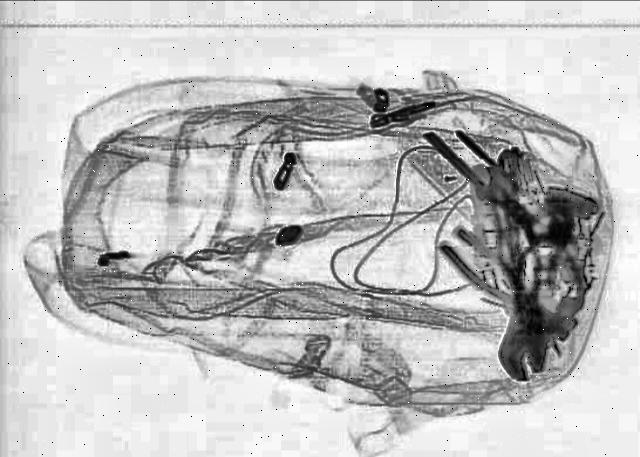Pliers: (427, 224, 583, 346)
Wrench: (478, 147, 556, 379)
